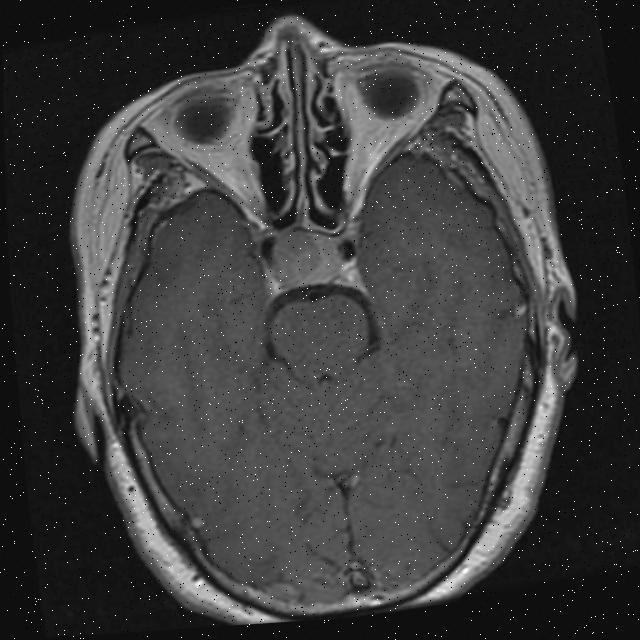Pituitary: (268, 221, 344, 290)
